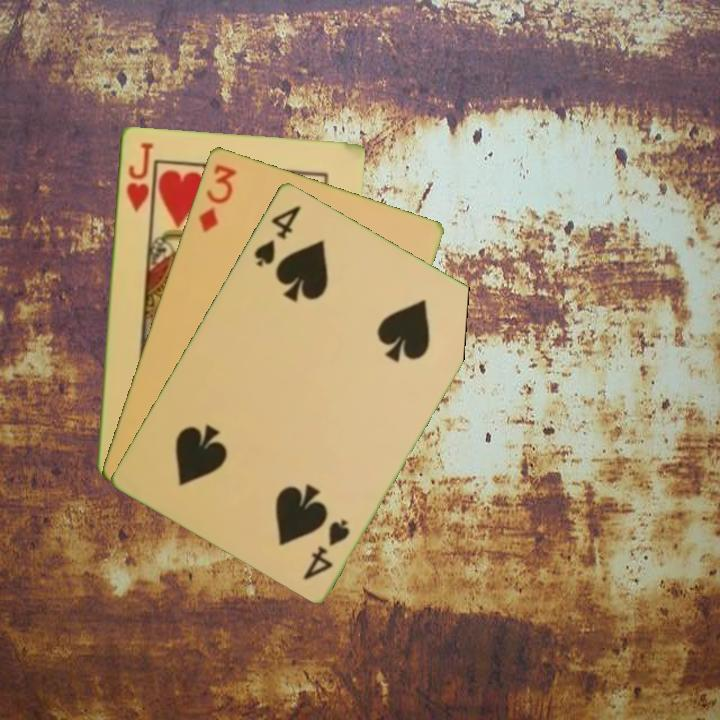3d: (195, 160, 239, 235)
4s: (250, 201, 304, 269), (299, 515, 353, 583)
Jh: (122, 138, 156, 214)
